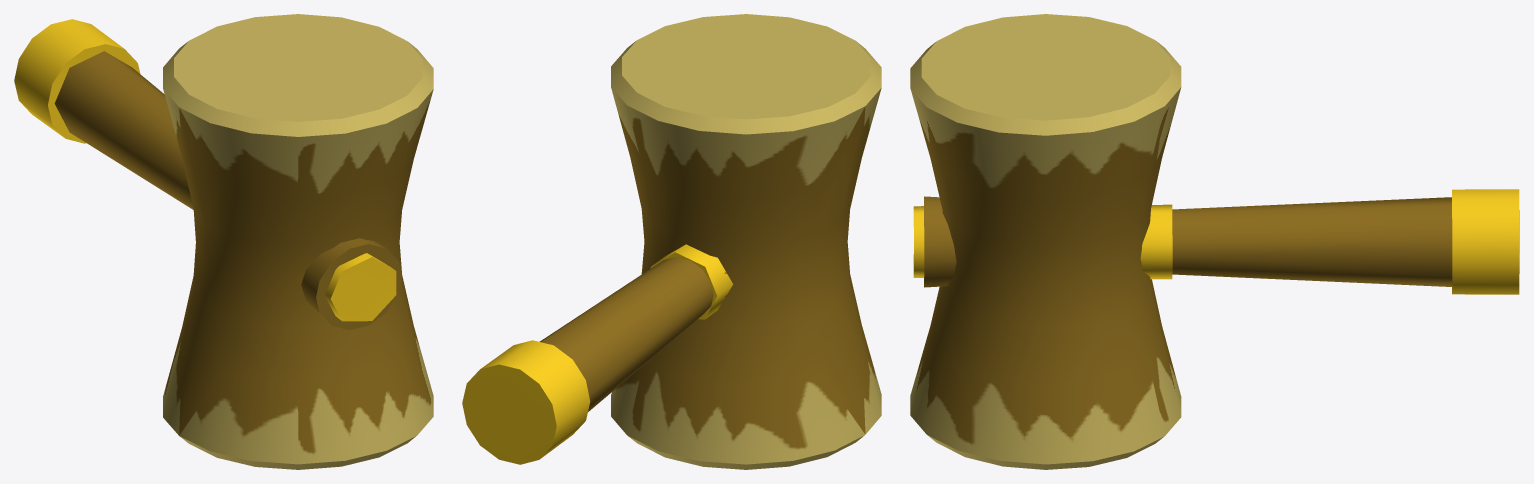
Rendered from hammer.fbx.
3 views of the same model, side by side, from view 1: azimuth 30°, elevation 25°; view 2: azimuth 150°, elevation 25°; view 3: azimuth 270°, elevation 25° (orthographic).
Parts seen in each view (by area): view 1: Bonk; view 2: Bonk; view 3: Bonk.
Boxes of the visible parts, left/top/right/bottom form: Bonk: left=14, top=14, right=433, bottom=469; Bonk: left=462, top=14, right=881, bottom=469; Bonk: left=910, top=14, right=1519, bottom=469.
Size of the model in its own units: 121 by 170 by 268.
